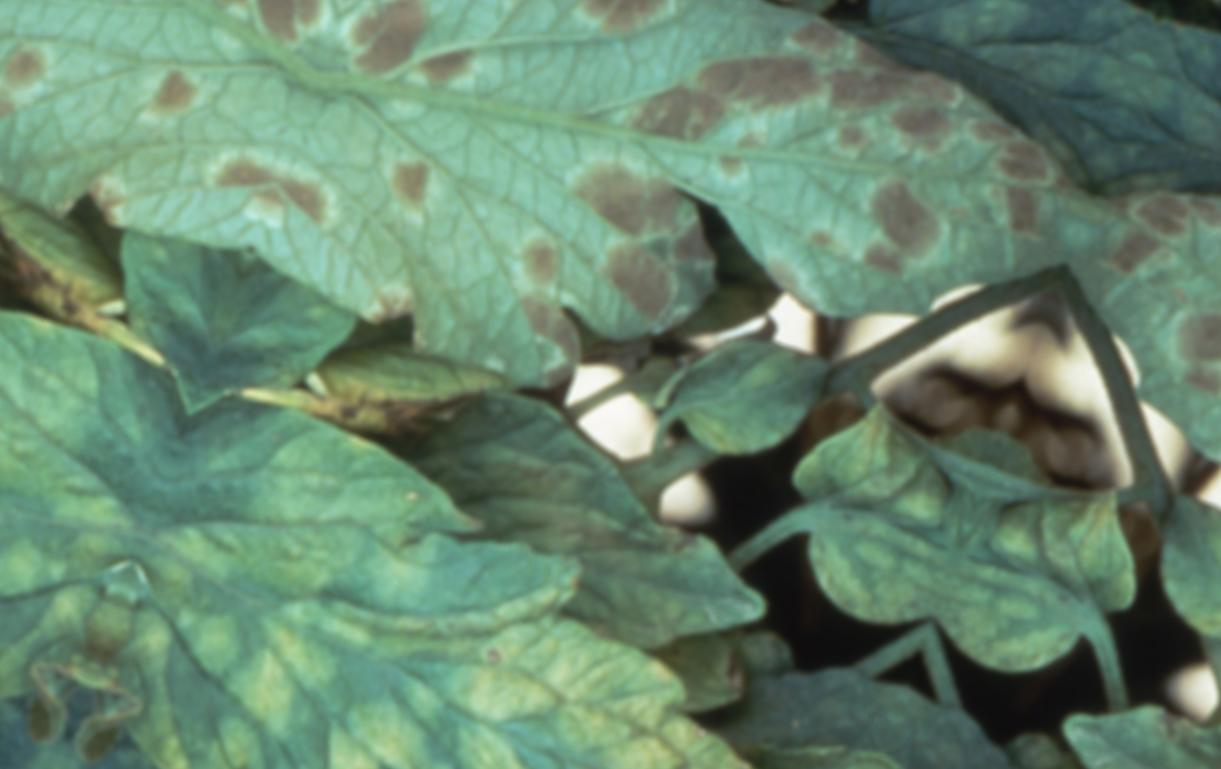Tomato mold leaf: (238, 0, 1126, 554), (58, 386, 886, 769), (750, 360, 1006, 652), (36, 661, 623, 769)
